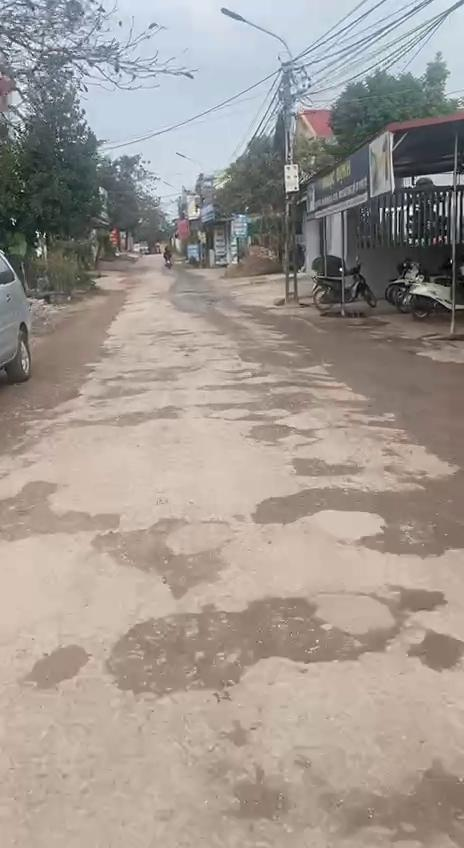pothole: (80, 586, 464, 693), (250, 467, 464, 562), (89, 516, 227, 600), (0, 476, 129, 542), (200, 385, 326, 422), (86, 362, 200, 402), (70, 400, 185, 430), (235, 346, 323, 371), (244, 418, 322, 446), (286, 455, 368, 480)
